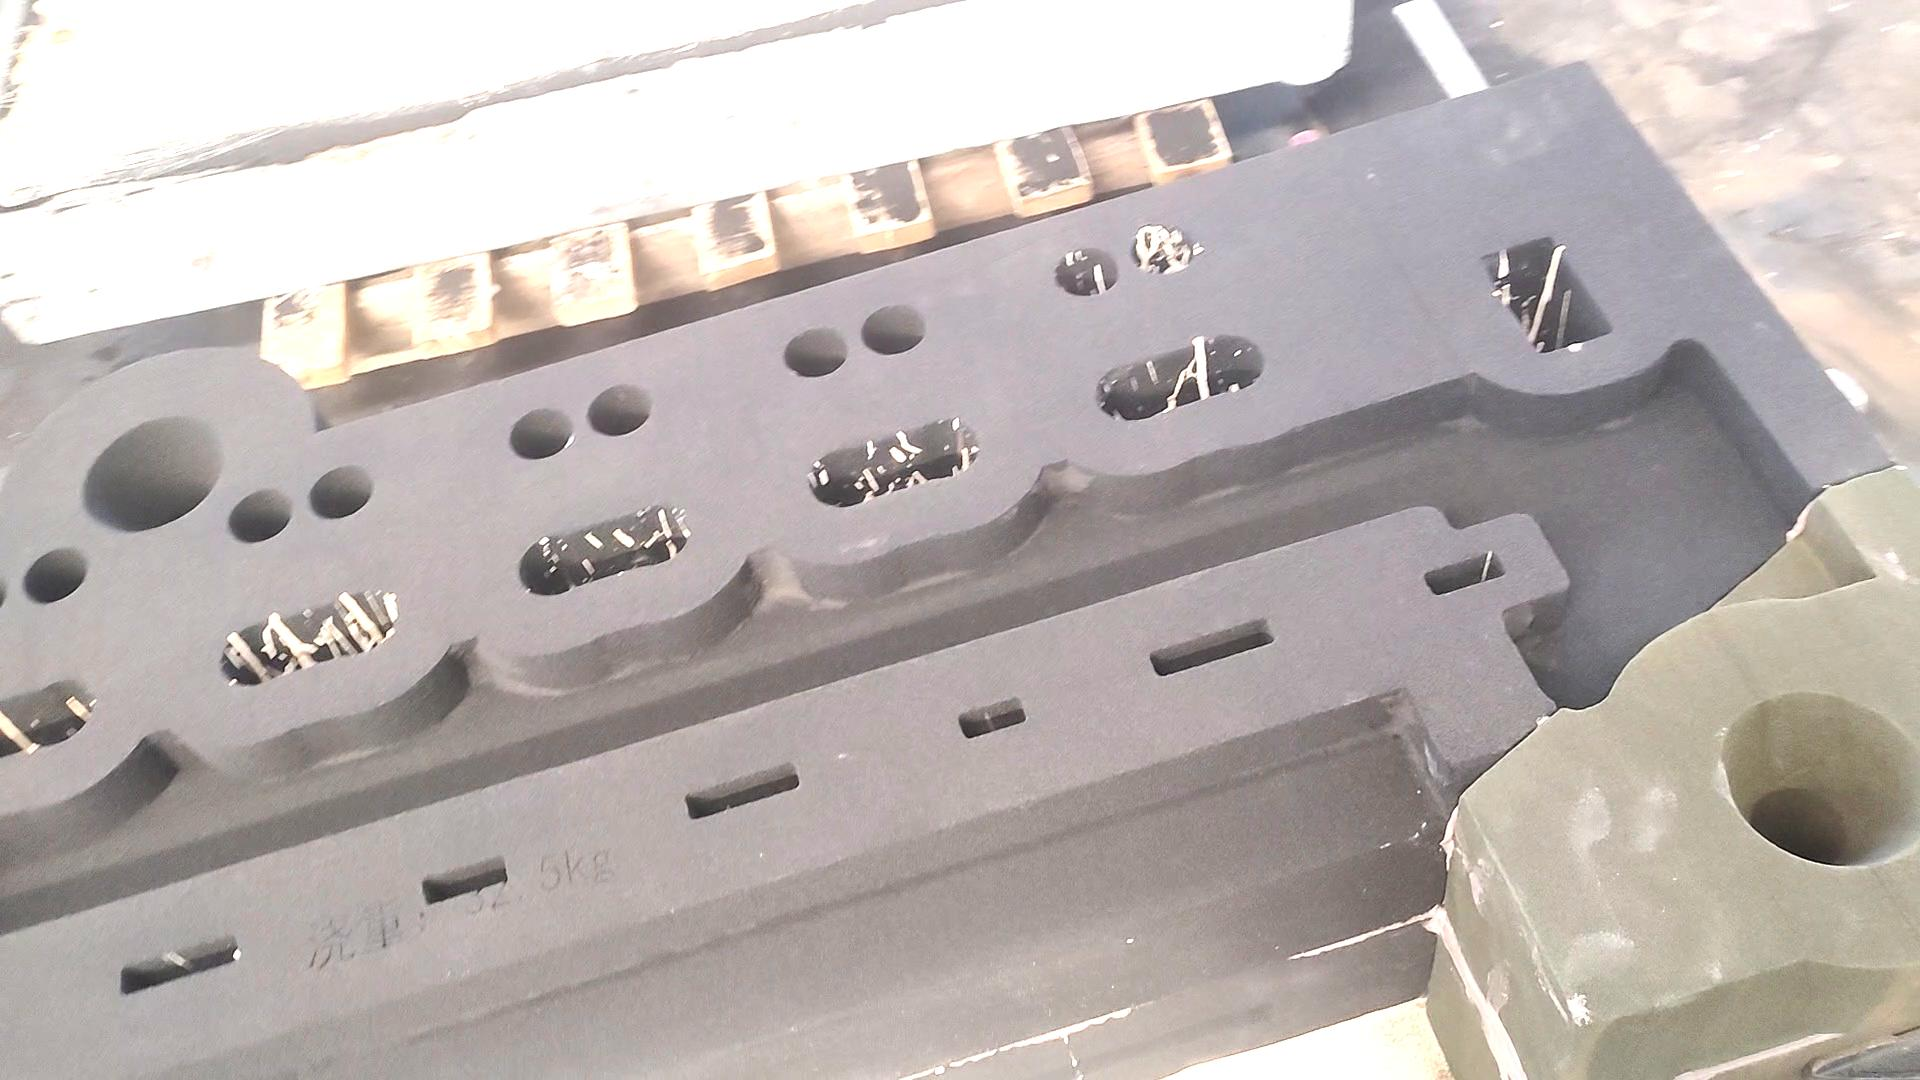pouring hole: (1724, 688, 1920, 868), (80, 410, 225, 533)
